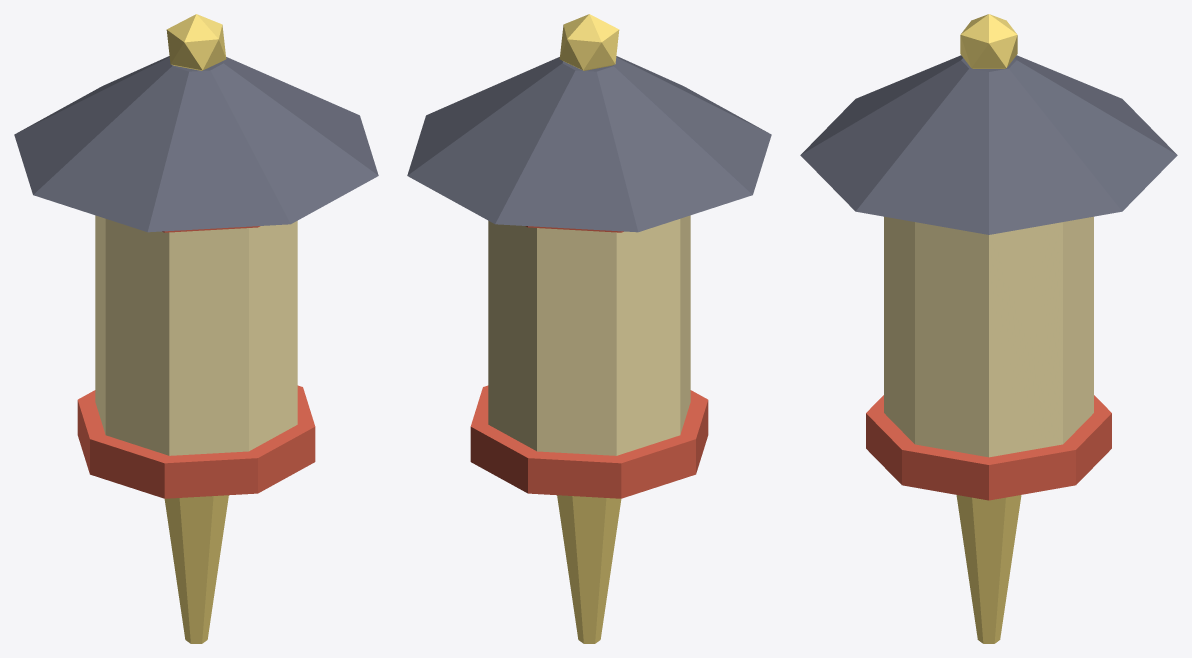
File: SM_Kitsune_Sky_Lantern.fbx
3 views of the same model, side by side, from view 1: azimuth 30°, elevation 25°; view 2: azimuth 150°, elevation 25°; view 3: azimuth 270°, elevation 25° (orthographic).
Visible parts, largest first — view 1: SM_Kitsune_Sky_Lantern; view 2: SM_Kitsune_Sky_Lantern; view 3: SM_Kitsune_Sky_Lantern.
Part boxes in pixels (x1,y1,x2,y2): SM_Kitsune_Sky_Lantern: [14, 14, 378, 643]; SM_Kitsune_Sky_Lantern: [407, 14, 771, 643]; SM_Kitsune_Sky_Lantern: [800, 14, 1177, 643].
Size of the model in its own units: 270 by 494 by 270.
